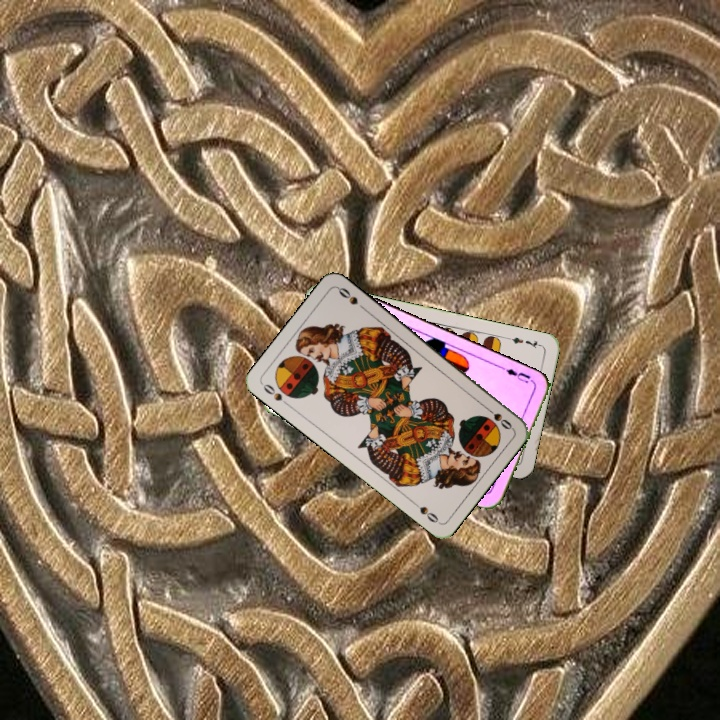E7: (504, 333, 544, 351)
EU: (499, 363, 537, 387)
SO: (480, 402, 515, 432), (259, 380, 293, 409)
